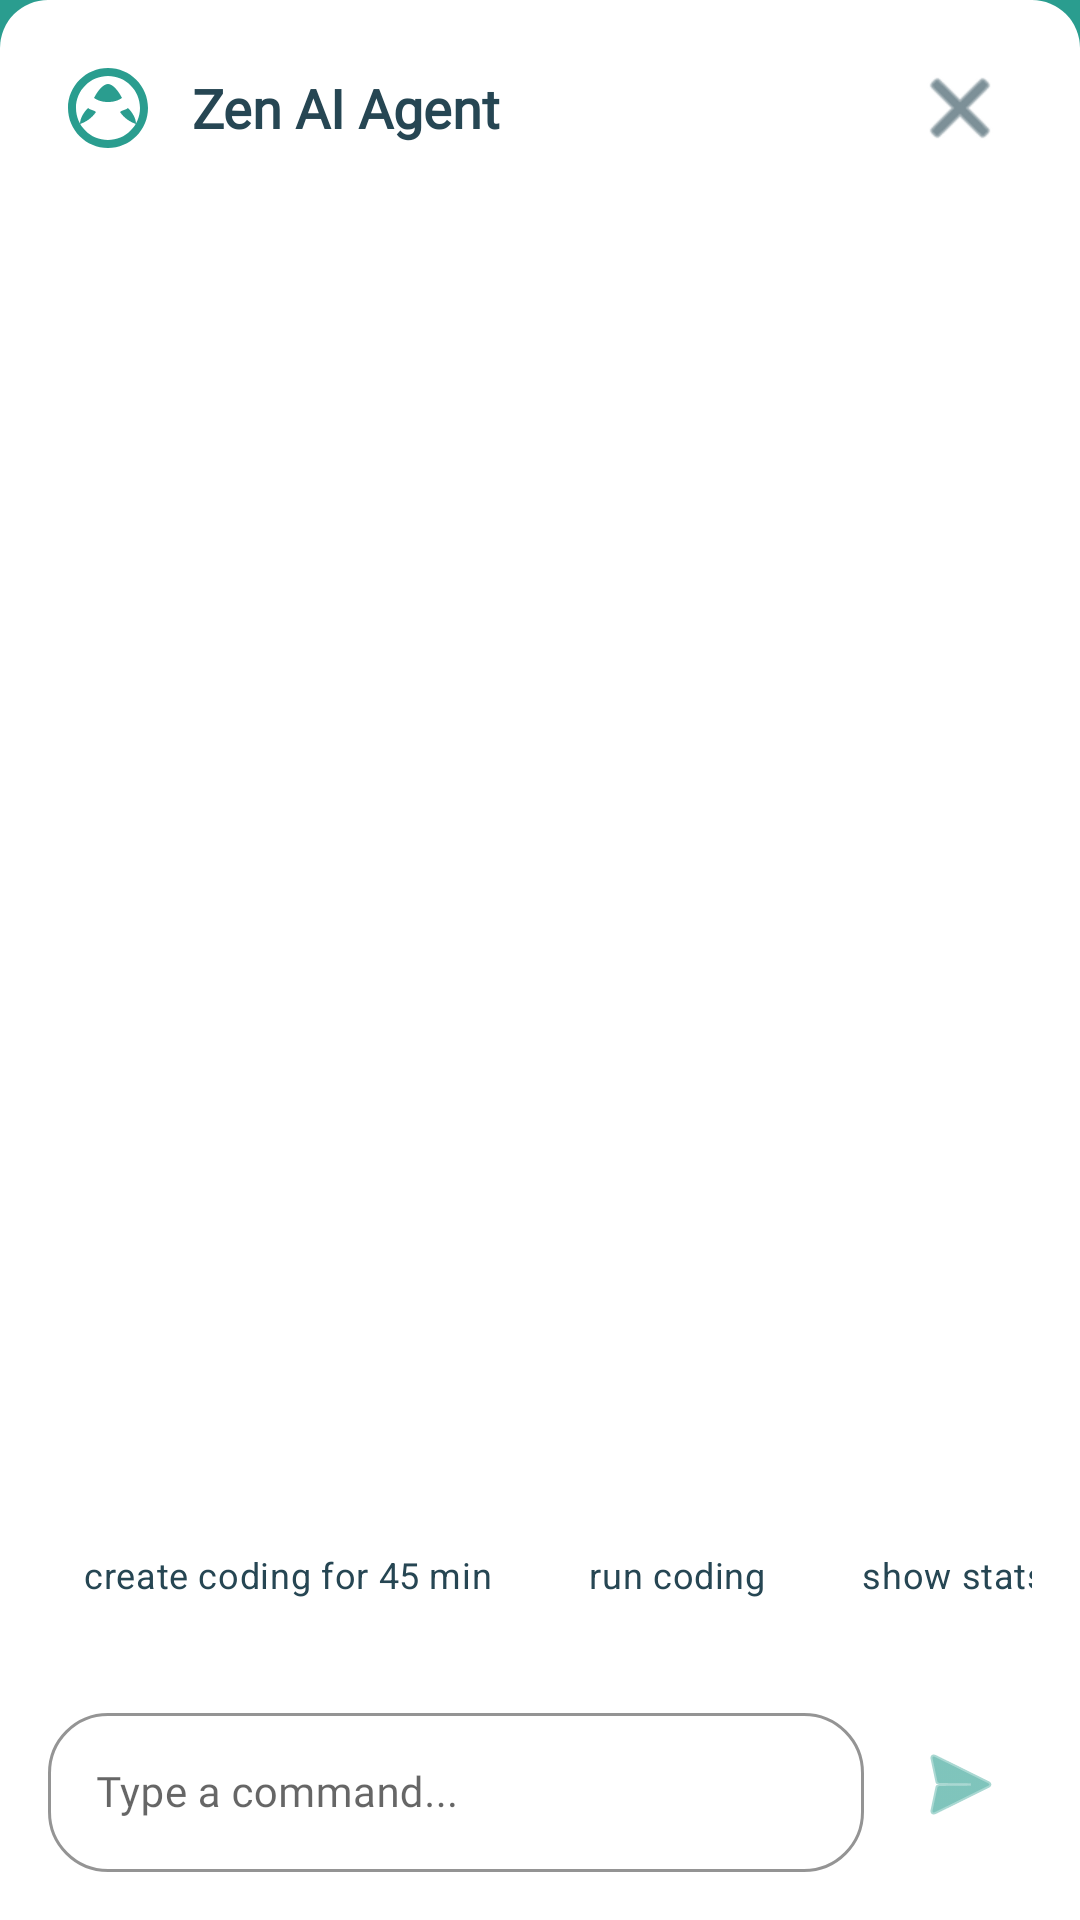

Icon click points for this 1080×1920 phone screenshot, format [x,y]:
Close Agent: [960,108]
Send command: [961,1784]
